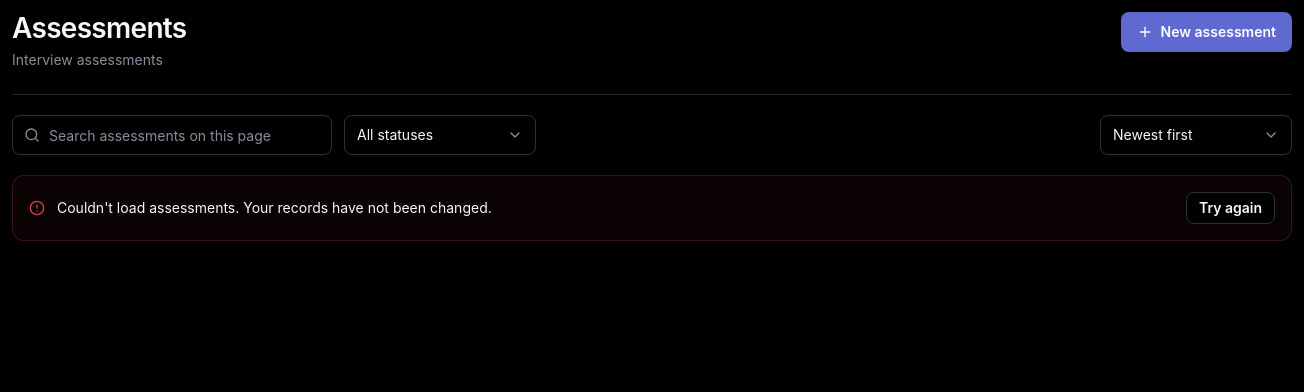
Recruitment resource lists › keeps load errors distinct from an empty collection and allows retry
The width and height of the screenshot is (1304, 392).
expect the message shows "Couldn't load": met, box [57,199,492,216]
Click the button "Try again": (1230, 208) [1186,192,1275,224]
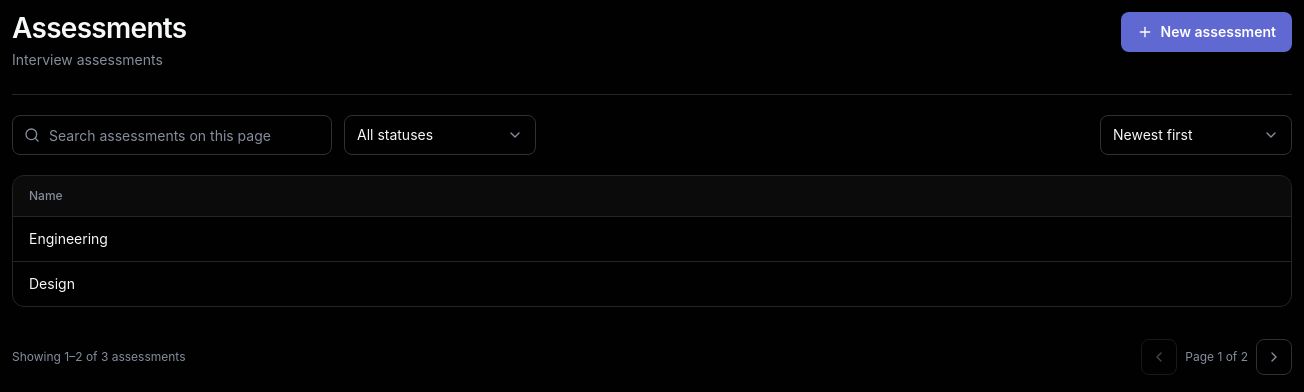
expect the text "Engineering" is shown: met, box [13,217,1291,262]
